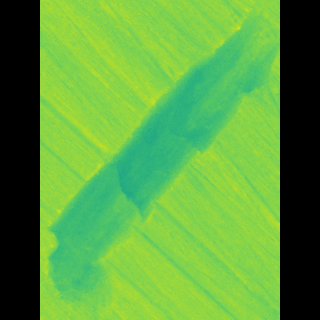Loch: (73, 5, 250, 308)
